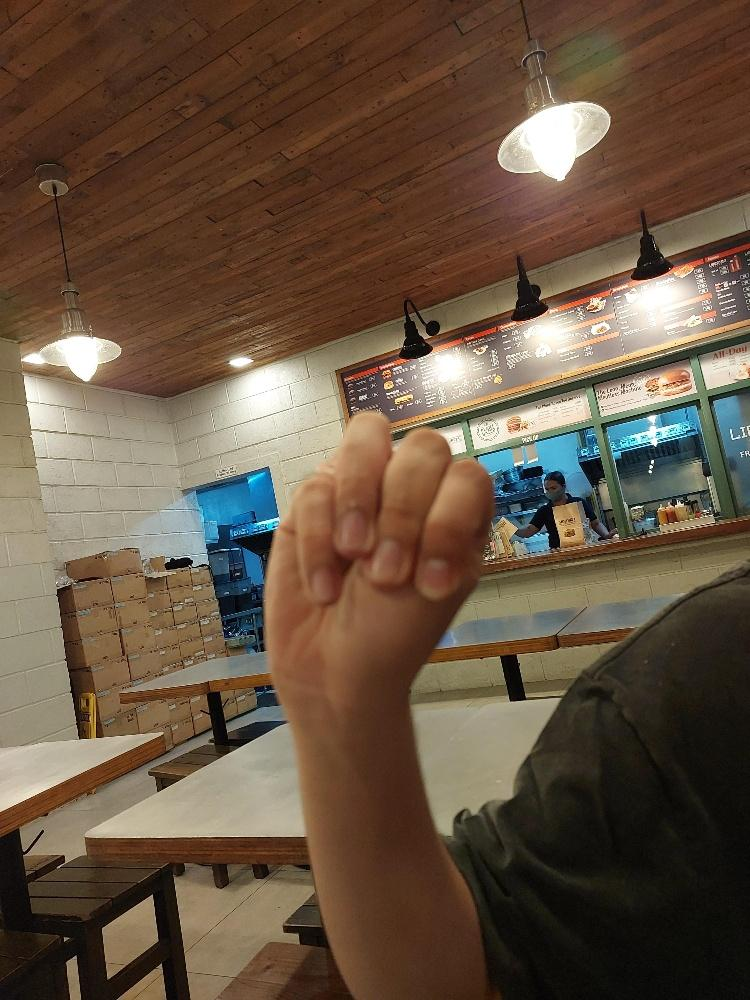m: (259, 408, 497, 700)
